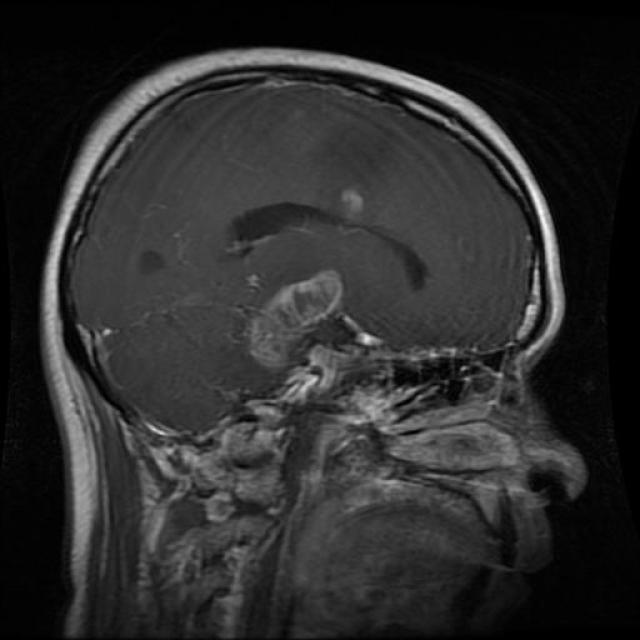glioma: (248, 268, 348, 370)
